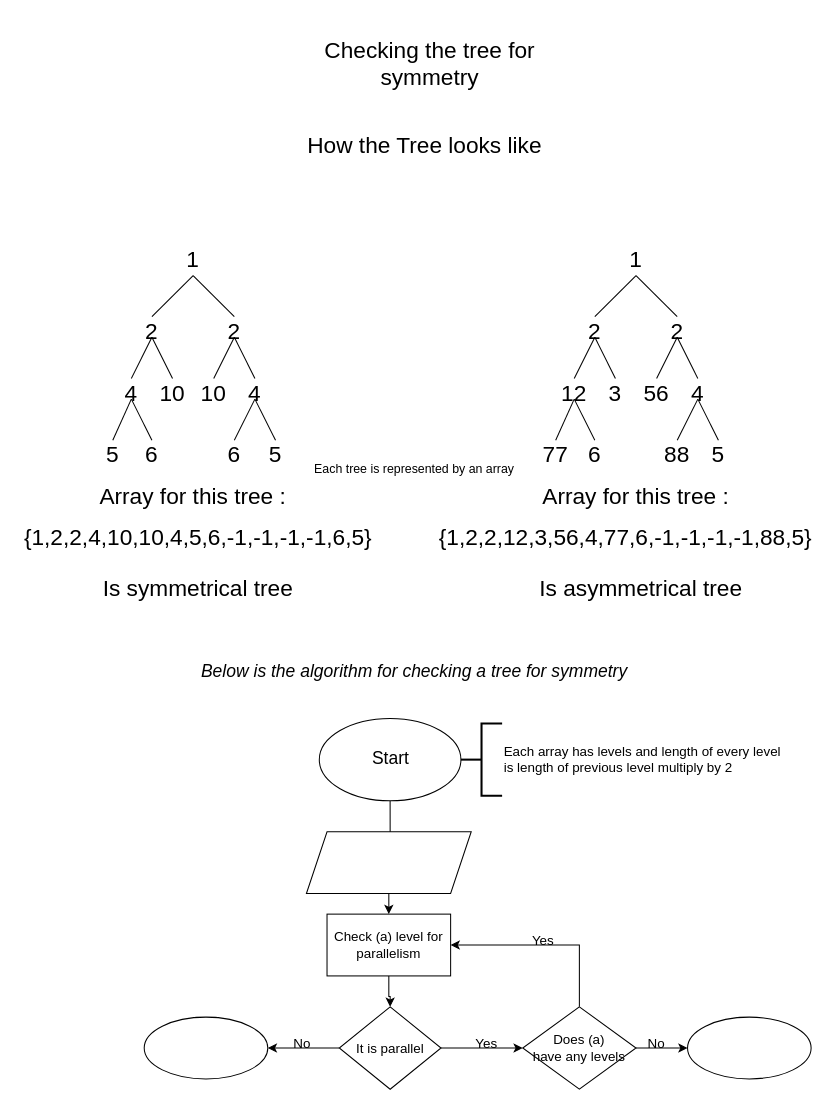
The diagram is 838 pixels wide and 1107 high, and some of its shapes have lost their labels. Here are the shapes that lost their labels. From the top down, the centre of each, then its label:
At [388,862]: "An array(a) that represents a tree".
At [205,1047]: "Tree is not semmetry".
At [748,1047]: "Tree is semmetry".
